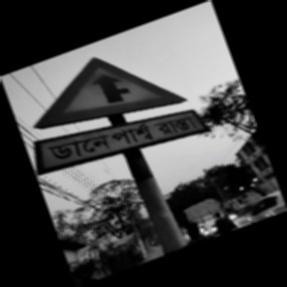Side-road-right: (33, 56, 204, 175)
